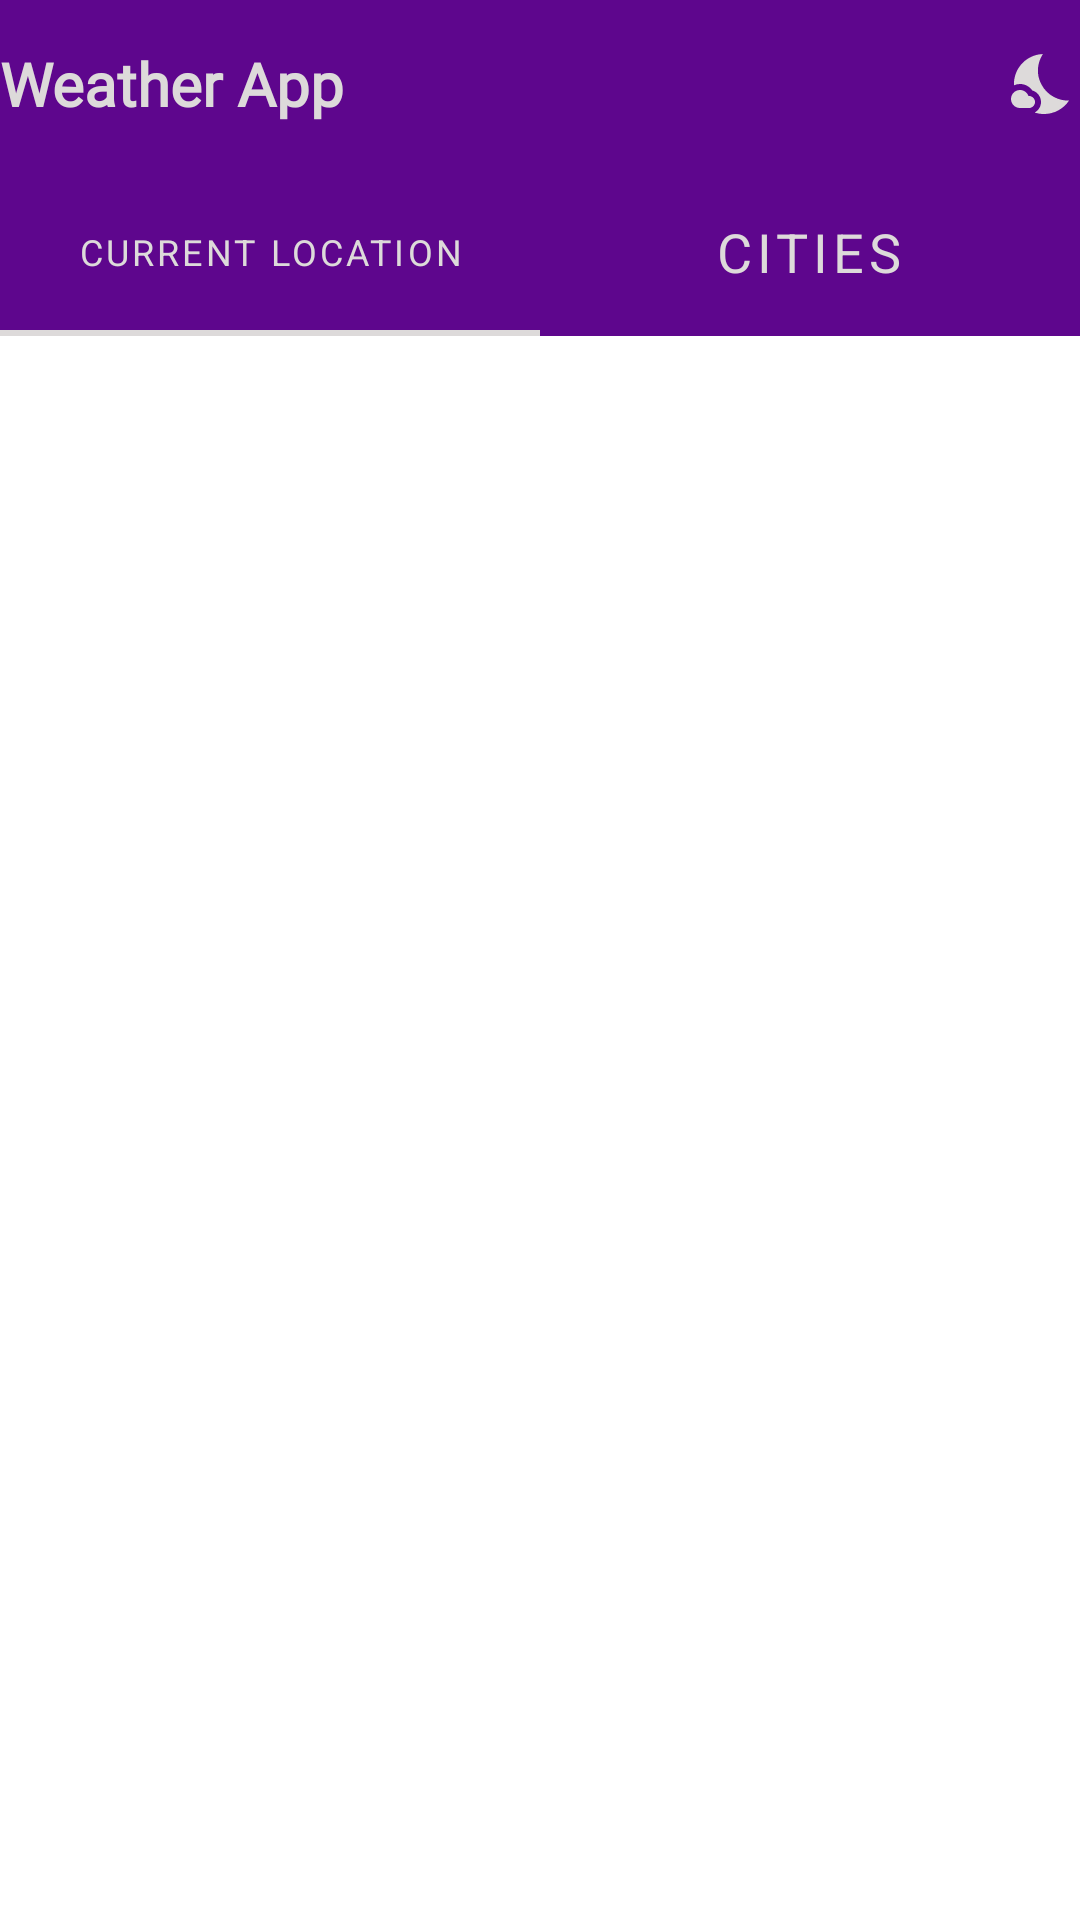

Screen size 1080x1920. Icon name, then its center in pixels as [x,y]:
night: [1040,84]
